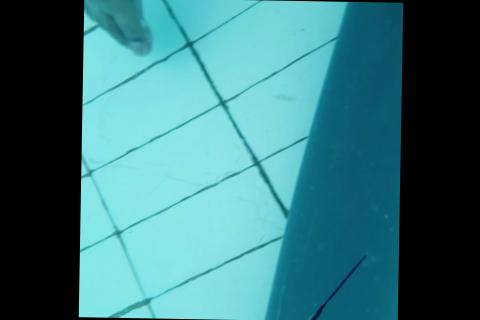keretakan: (279, 253, 366, 320)
